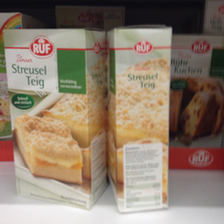cake: (4, 28, 110, 210), (108, 23, 175, 212)
